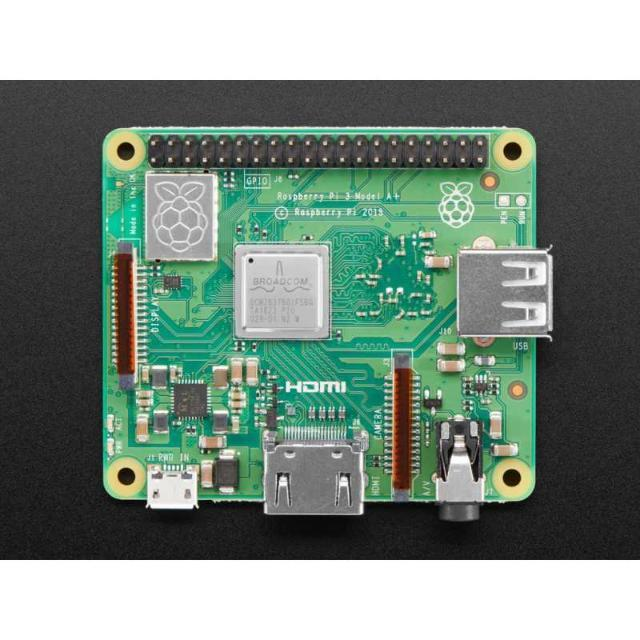Raspberry-Pi-3-A-: (102, 127, 555, 522)
